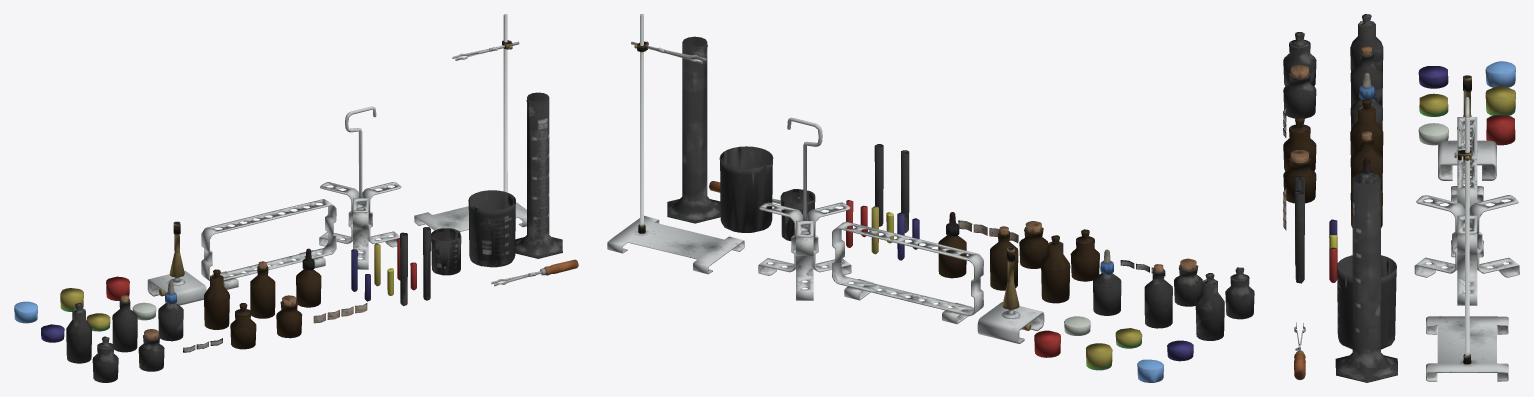
File: chemistry_set.glb
3 views of the same model, side by side, from view 1: azimuth 30°, elevation 25°; view 2: azimuth 150°, elevation 25°; view 3: azimuth 270°, elevation 25° (orthographic). The views are drawn at different scales.
Visible parts, largest first — view 1: chemistry_set_beaker_large, chemistry_set_test_tube_content_b; view 2: chemistry_set_beaker_large, chemistry_set_test_tube_content_b; view 3: chemistry_set_beaker_large, chemistry_set_test_tube_content_b.
Part boxes in pixels (<box>): chemistry_set_beaker_large: <box>41,92,562,382</box>; chemistry_set_test_tube_content_b: <box>14,14,578,339</box>; chemistry_set_beaker_large: <box>667,36,1254,370</box>; chemistry_set_test_tube_content_b: <box>607,14,1196,382</box>; chemistry_set_beaker_large: <box>1283,14,1515,382</box>; chemistry_set_test_tube_content_b: <box>1290,46,1519,381</box>.
Size of the model in its own units: 1.08 by 0.4289 by 0.3534.
2 materials, 2 textured.
